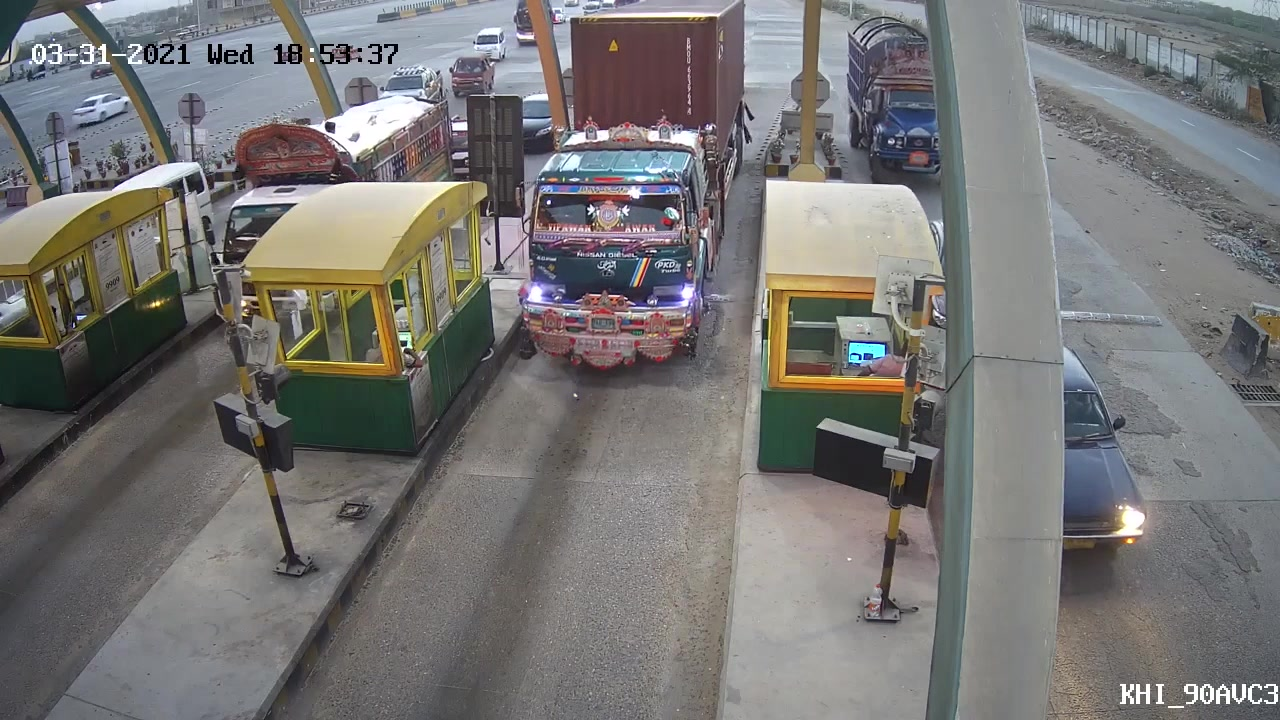F6: (504, 1, 751, 369)
